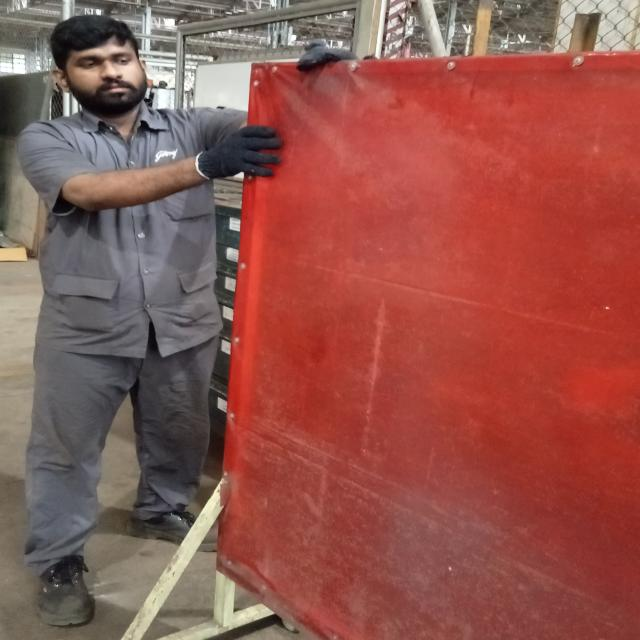Gloves-Detection: (191, 130, 282, 185), (301, 50, 333, 74)
